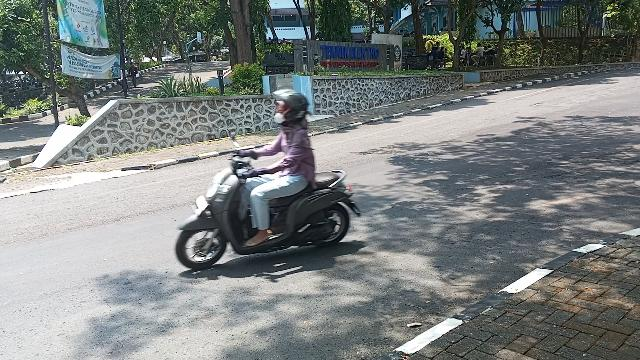helm: (271, 90, 311, 129)
motor: (175, 130, 364, 272)
